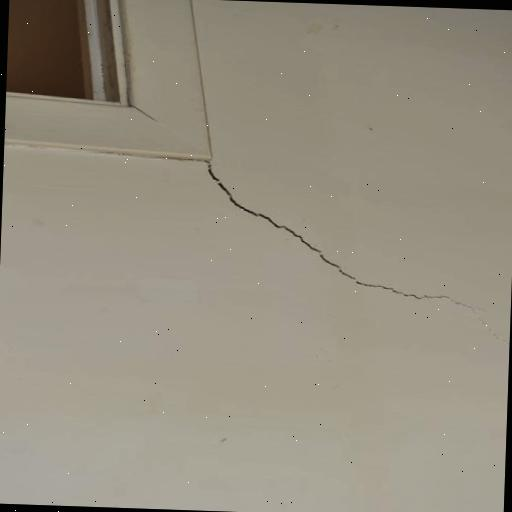spalling: (200, 161, 486, 313)
